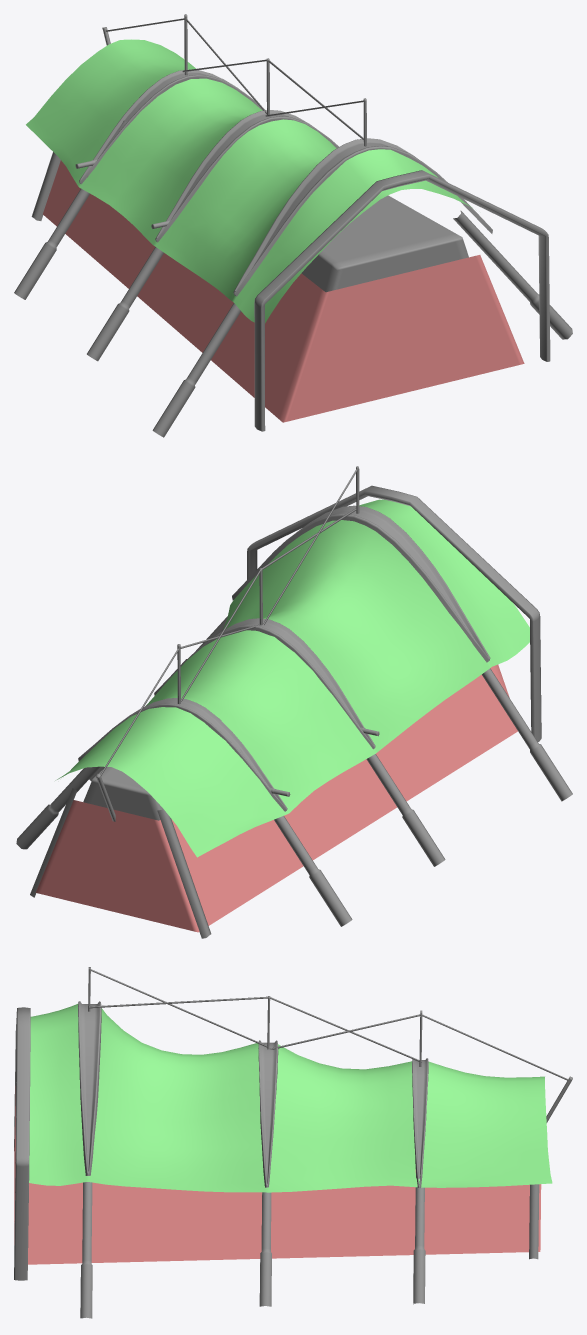
The model's file is CS_Tent_00.gltf.
3 renders of one model, top to bottom at view 1: azimuth 30°, elevation 25°; view 2: azimuth 150°, elevation 25°; view 3: azimuth 270°, elevation 25°, orthographic. The views are drawn at different scales.
Parts seen in each view (by area): view 1: CS_Tent_00; view 2: CS_Tent_00; view 3: CS_Tent_00.
Part boxes in pixels (x1=…): CS_Tent_00: x1=14, y1=14, x2=572, y2=437; CS_Tent_00: x1=16, y1=466, x2=572, y2=938; CS_Tent_00: x1=14, y1=967, x2=572, y2=1318.
Size of the model in its own units: 37.91 by 25.18 by 47.38.
